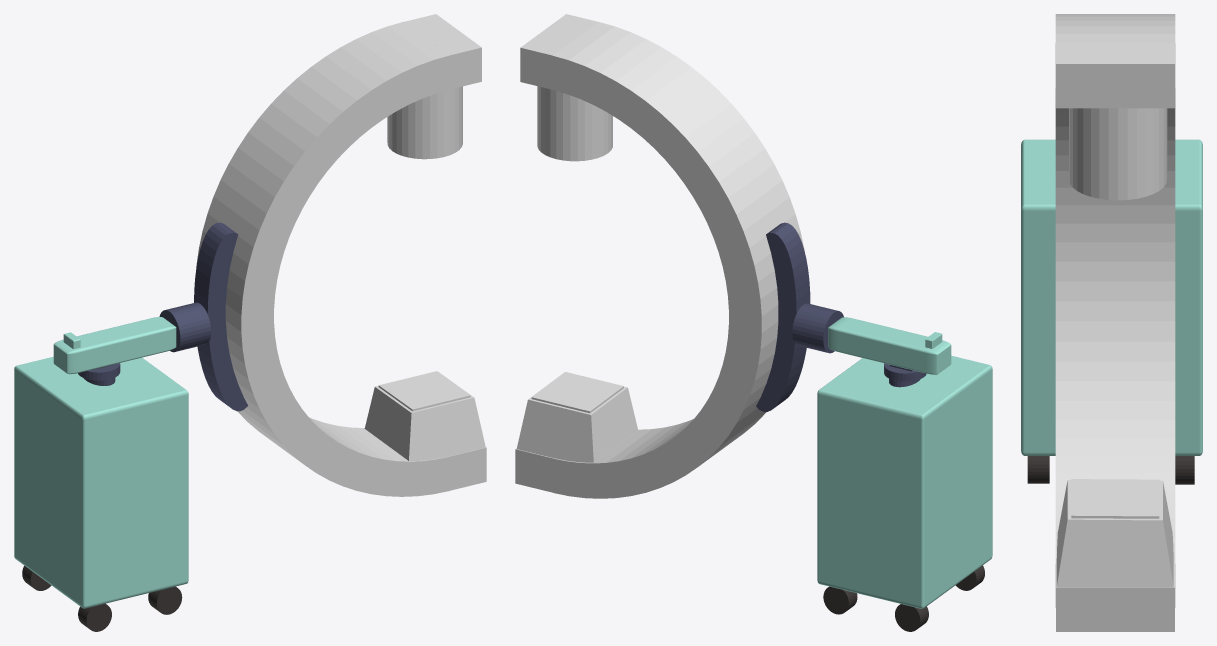
Rendered from CArm with Bracket and only one Projection.fbx.
The picture shows the model from 3 angles, left to right: view 1: azimuth 30°, elevation 25°; view 2: azimuth 150°, elevation 25°; view 3: azimuth 270°, elevation 25°; orthographic projection. The views are drawn at different scales.
Visible parts, largest first — view 1: Cube.006, Cube.011, Cube.005, Cube.001, Cylinder, Cube.008, Cube.007, Cylinder.011, Cube.002, Cylinder.005, Cylinder.006; view 2: Cube.006, Cube.011, Cube.005, Cube.001, Cylinder, Cube.008, Cube.007, Cylinder.011, Cube.002, Cylinder.004, Cylinder.003; view 3: Cube.006, Cube.011, Cube.005, Cylinder, Cube.007, Cube.002, Cylinder.006, Cylinder.003.
Part boxes in pixels (x1=…): Cube.006: x1=196, y1=22, x2=449, y2=496; Cube.011: x1=14, y1=356, x2=188, y2=608; Cube.005: x1=364, y1=371, x2=485, y2=460; Cube.001: x1=194, y1=222, x2=247, y2=411; Cylinder: x1=387, y1=86, x2=462, y2=159; Cube.008: x1=53, y1=317, x2=176, y2=374; Cube.007: x1=404, y1=14, x2=481, y2=89; Cylinder.011: x1=159, y1=302, x2=211, y2=352; Cube.002: x1=449, y1=447, x2=486, y2=490; Cylinder.005: x1=78, y1=603, x2=111, y2=631; Cylinder.006: x1=148, y1=586, x2=182, y2=614; Cube.006: x1=552, y1=22, x2=804, y2=498; Cube.011: x1=817, y1=355, x2=992, y2=608; Cube.005: x1=516, y1=372, x2=637, y2=462; Cube.001: x1=756, y1=222, x2=810, y2=411; Cylinder: x1=537, y1=86, x2=612, y2=161; Cube.008: x1=828, y1=317, x2=951, y2=374; Cube.007: x1=520, y1=14, x2=598, y2=89; Cylinder.011: x1=792, y1=303, x2=843, y2=353; Cube.002: x1=515, y1=448, x2=553, y2=492; Cylinder.004: x1=895, y1=604, x2=928, y2=631; Cylinder.003: x1=823, y1=586, x2=857, y2=614; Cube.006: x1=1055, y1=14, x2=1175, y2=607; Cube.011: x1=1021, y1=139, x2=1202, y2=455; Cube.005: x1=1056, y1=479, x2=1173, y2=587; Cylinder: x1=1069, y1=108, x2=1167, y2=200; Cube.007: x1=1056, y1=43, x2=1174, y2=108; Cube.002: x1=1056, y1=563, x2=1174, y2=631; Cylinder.006: x1=1027, y1=456, x2=1049, y2=483; Cylinder.003: x1=1175, y1=456, x2=1194, y2=484.
Size of the model in its own units: 3.31 by 3.64 by 0.963.
